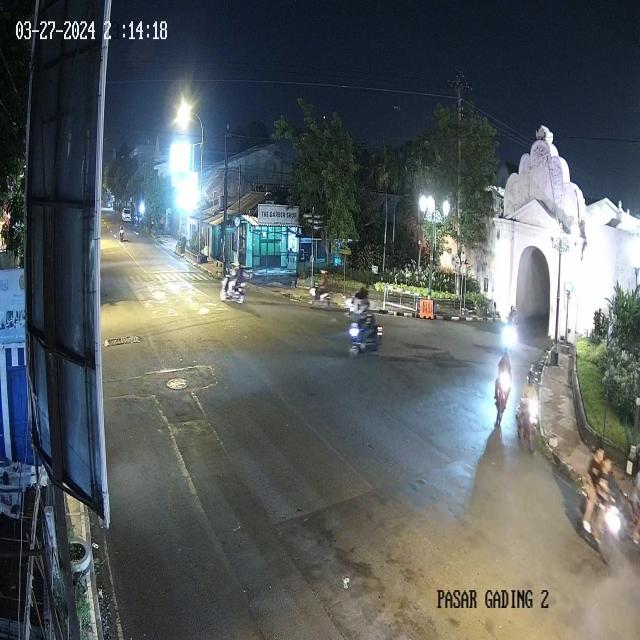motorcycle: (578, 442, 623, 571), (348, 299, 382, 356), (516, 368, 537, 455), (495, 348, 513, 424), (219, 265, 249, 304), (307, 268, 331, 310), (503, 306, 519, 361), (120, 220, 125, 242)
